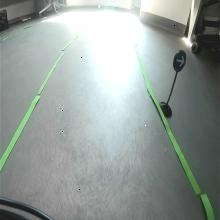right: (174, 49, 186, 72)
